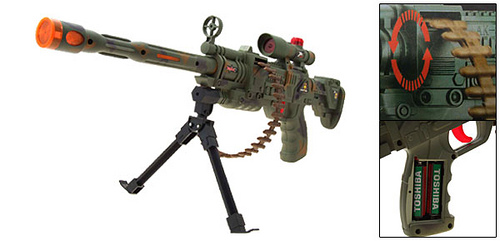rifle: (28, 14, 350, 226)
